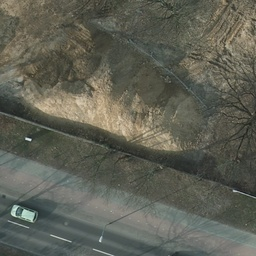car: (10, 203, 38, 223)
